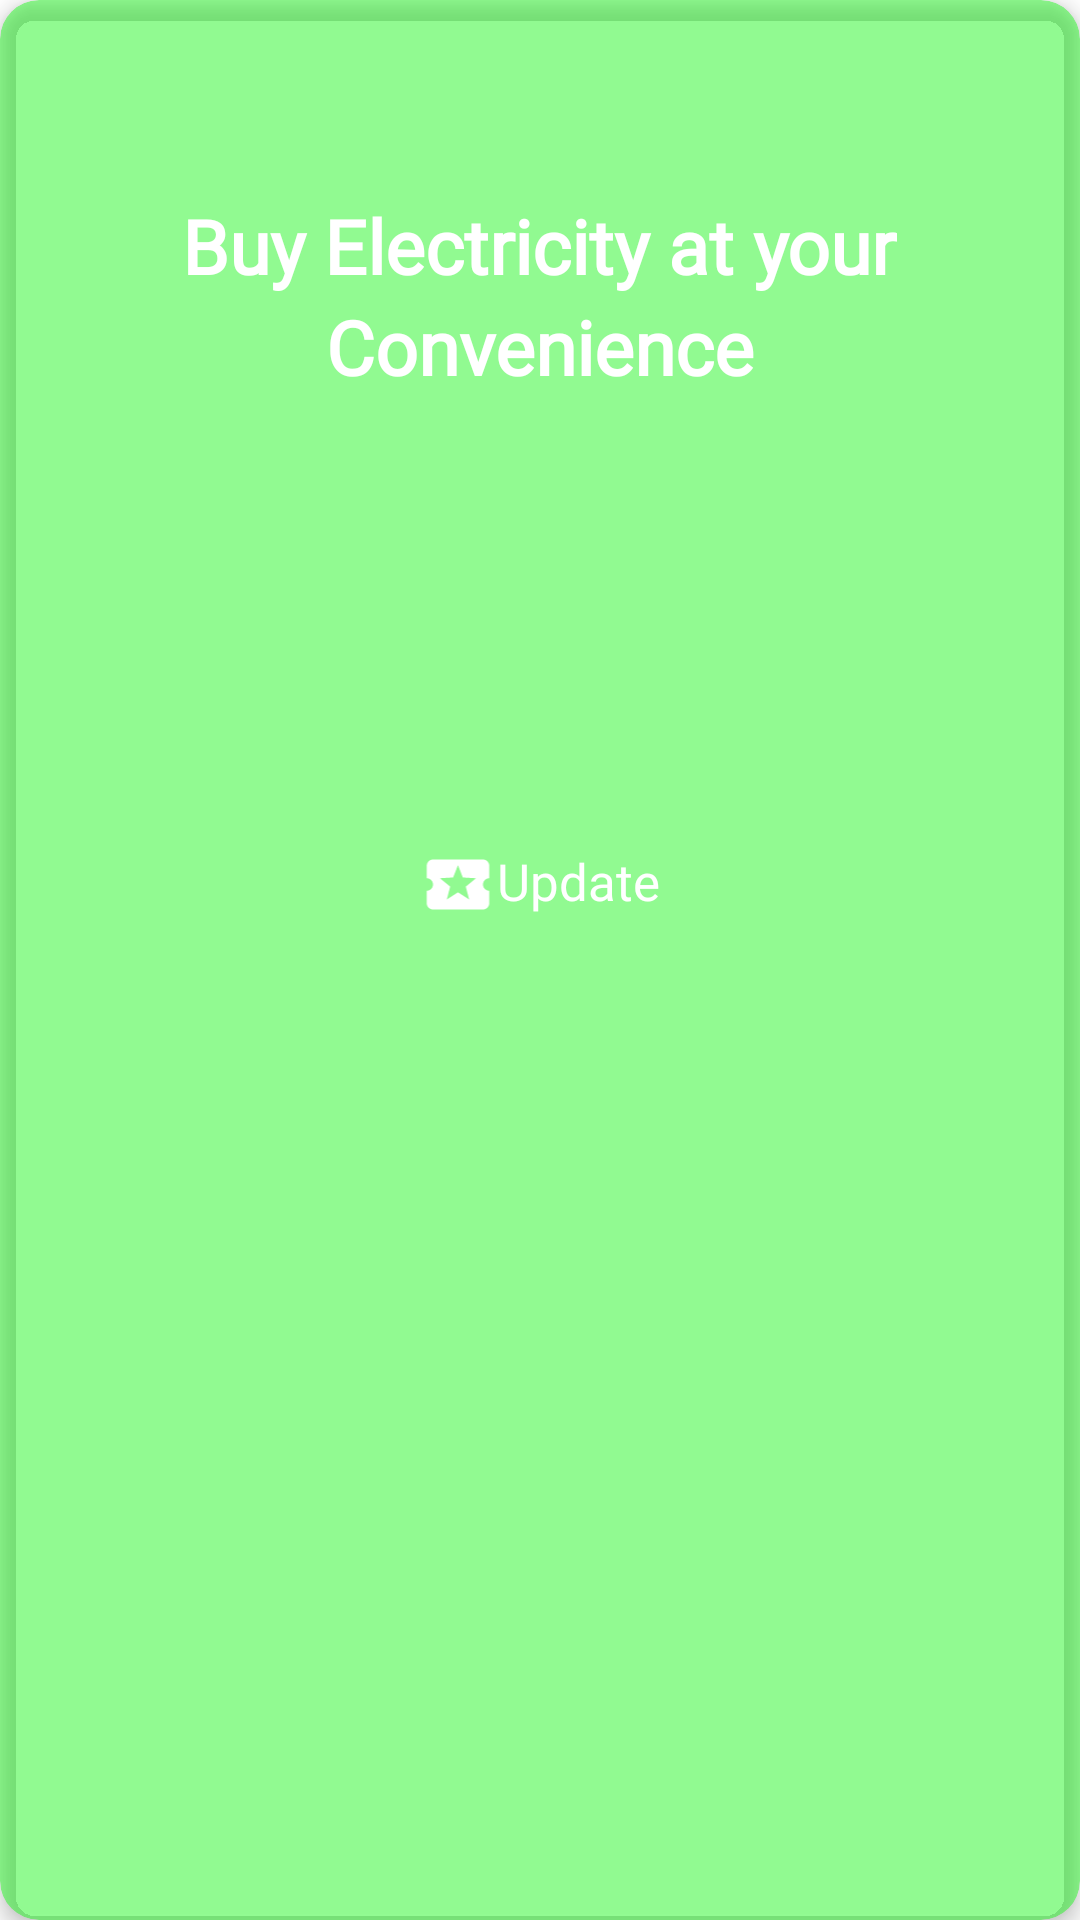

Point at icon controls on the screen. Image size 1080 x 1920, points as [x,y].
local activity: [458,884]
